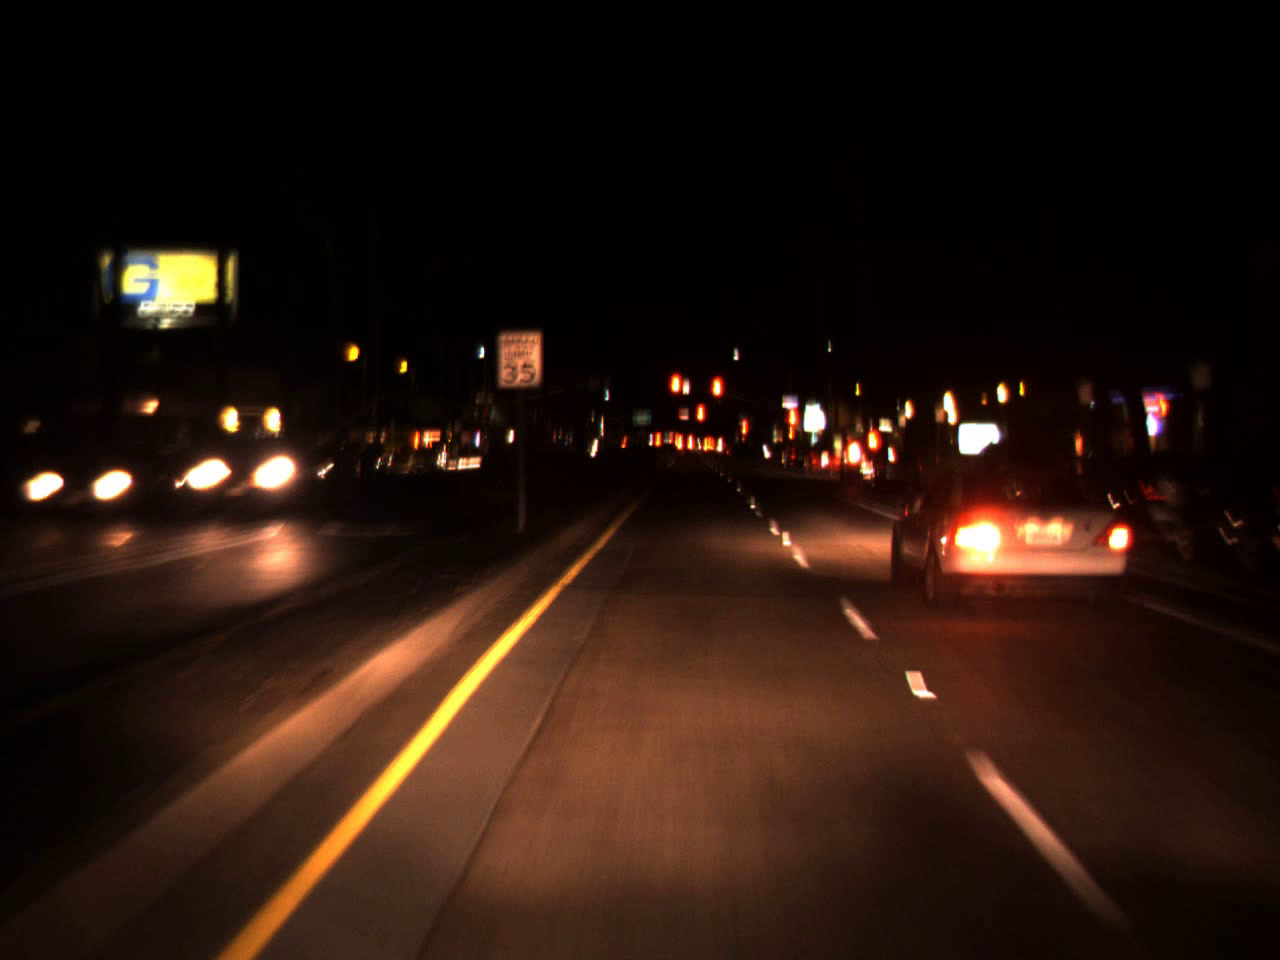stop: (709, 373, 725, 421), (668, 370, 683, 415), (785, 404, 801, 447), (695, 400, 707, 445), (740, 416, 749, 456)
